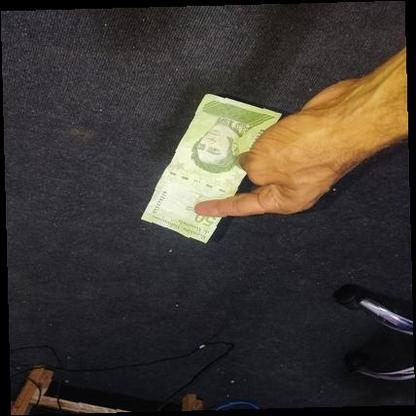fifty-front-vef: (140, 94, 282, 244)
